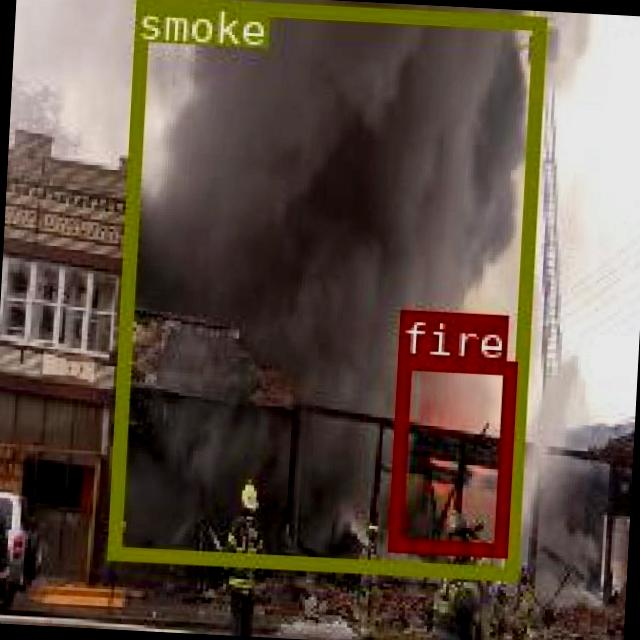fire: (388, 354, 512, 553)
smoke: (106, 0, 543, 578)
